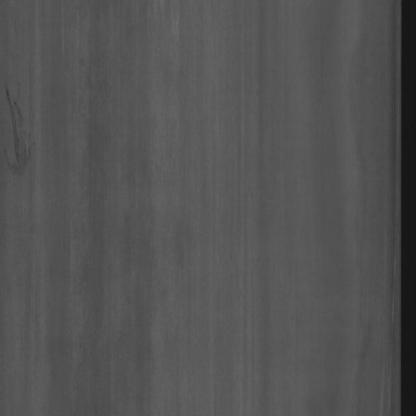water_spot: (2, 75, 38, 176)
